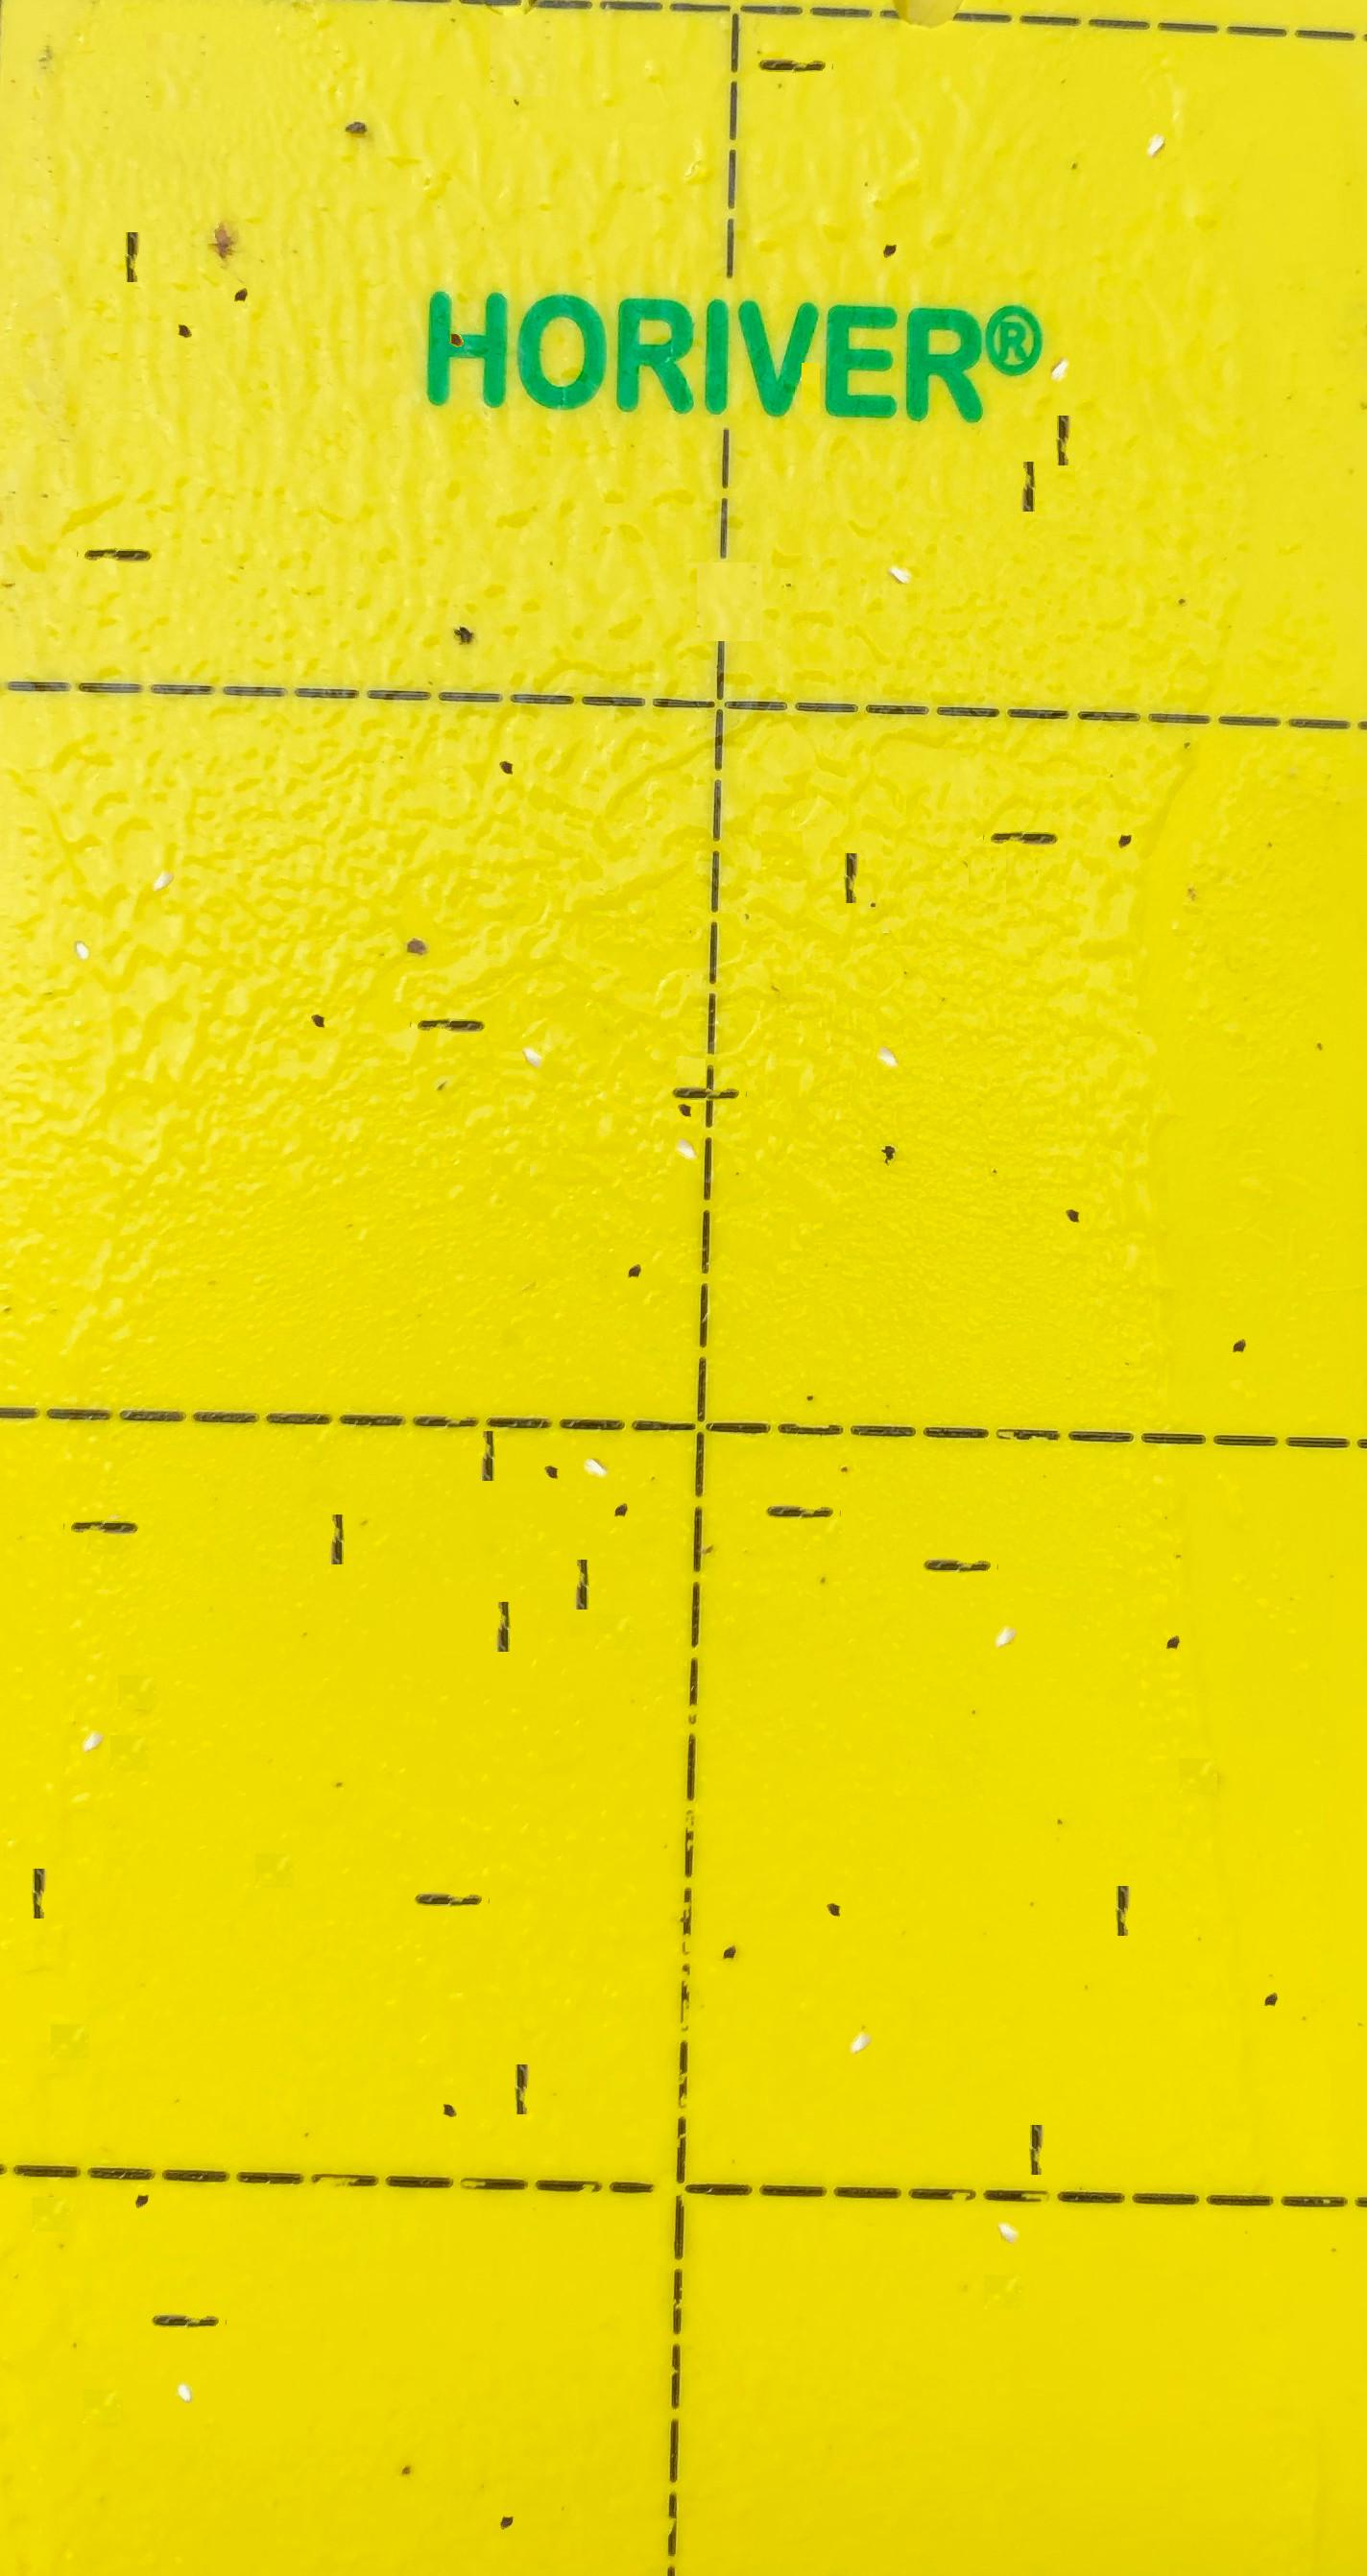white_fly: (60, 881, 102, 929), (164, 2320, 206, 2368), (840, 1976, 883, 2021), (881, 506, 924, 550), (141, 814, 184, 859), (985, 1571, 1028, 1615), (1041, 305, 1082, 351), (573, 1400, 614, 1446), (665, 1084, 707, 1126), (866, 992, 908, 1034), (513, 993, 556, 1036), (72, 1676, 114, 1719), (1133, 75, 1174, 119), (989, 2169, 1030, 2211)
